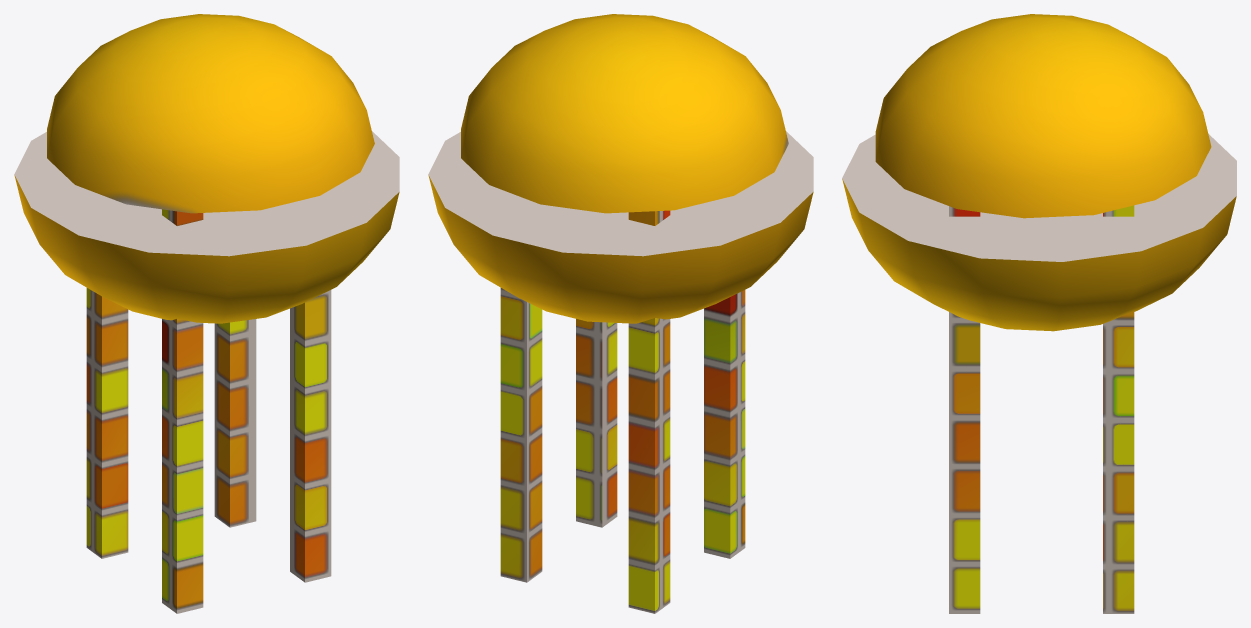
The model's file is Tall_B_8.fbx.
3 views of the same model, side by side, from view 1: azimuth 30°, elevation 25°; view 2: azimuth 150°, elevation 25°; view 3: azimuth 270°, elevation 25° (orthographic). The views are drawn at different scales.
Visible parts, largest first — view 1: Tall_B_8; view 2: Tall_B_8; view 3: Tall_B_8.
Boxes of the visible parts, x1,y1,x2,y2 form: Tall_B_8: (14,14,399,613); Tall_B_8: (428,14,813,613); Tall_B_8: (842,14,1236,613).
Size of the model in its own units: 5259 by 7907 by 5230.
